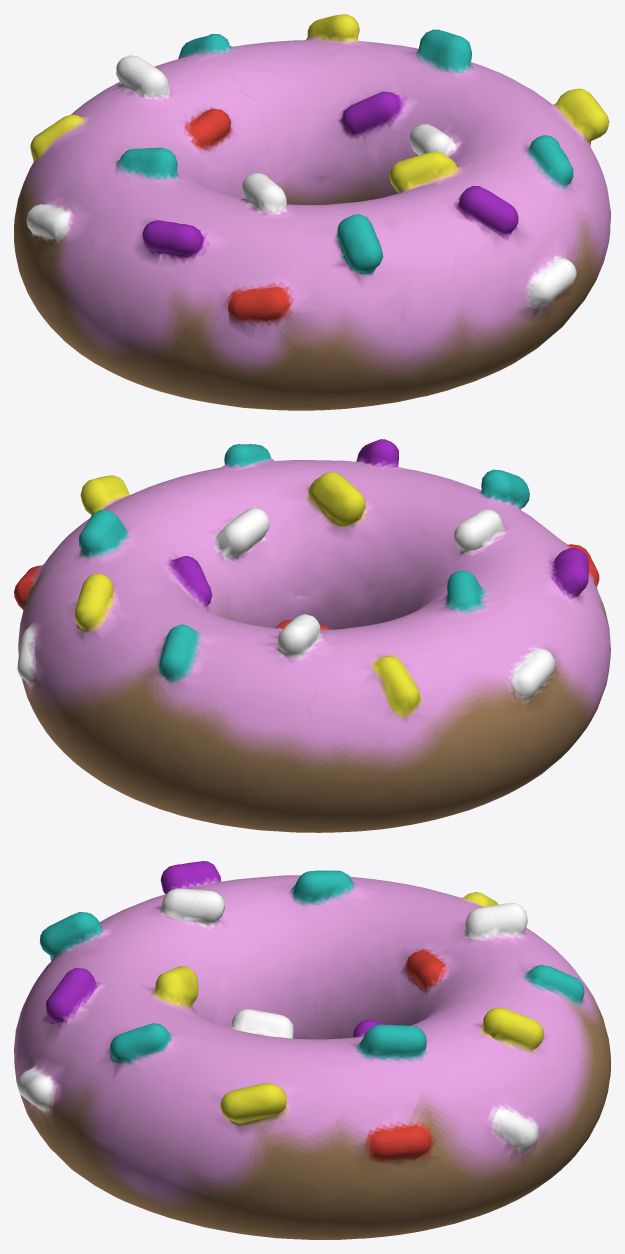
File: faedonut.dae
3 renders of one model, top to bottom at view 1: azimuth 30°, elevation 25°; view 2: azimuth 150°, elevation 25°; view 3: azimuth 270°, elevation 25°, orthographic.
Parts seen in each view (by area): view 1: Layer_1; view 2: Layer_1; view 3: Layer_1.
Part boxes in pixels (left/top/right/bottom): Layer_1: left=14, top=14, right=610, bottom=410; Layer_1: left=14, top=439, right=610, bottom=832; Layer_1: left=14, top=861, right=610, bottom=1239.
Size of the model in its own units: 0.1304 by 0.1301 by 0.0517.
1 material, 1 textured.
